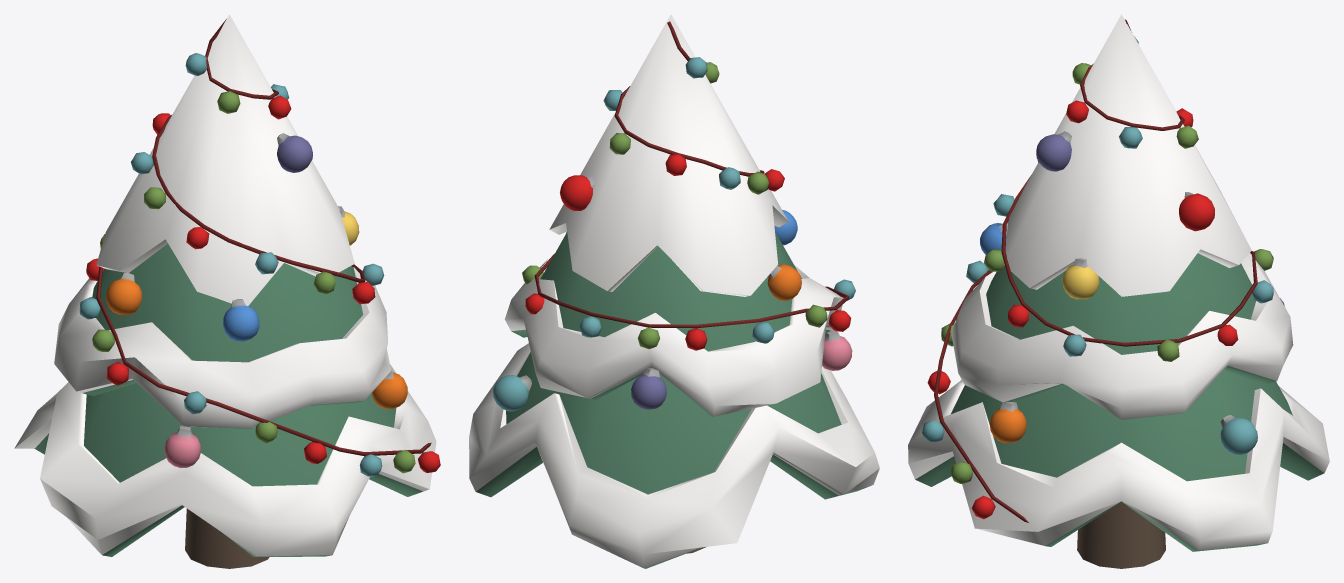
The model's file is Christmas_Tree_2.glb.
3 renders of one model, left to right at view 1: azimuth 30°, elevation 25°; view 2: azimuth 150°, elevation 25°; view 3: azimuth 270°, elevation 25°, orthographic. The views are drawn at different scales.
Visible parts, largest first — view 1: Christmas_Tree_2; view 2: Christmas_Tree_2; view 3: Christmas_Tree_2.
Boxes of the visible parts, box(x1,y1,x2,y2) form: Christmas_Tree_2: box(14, 14, 440, 568); Christmas_Tree_2: box(469, 14, 879, 568); Christmas_Tree_2: box(908, 14, 1329, 568).
Size of the model in its own units: 1.74 by 2.5 by 1.78.
Materials: 1 (1 with a texture image).
